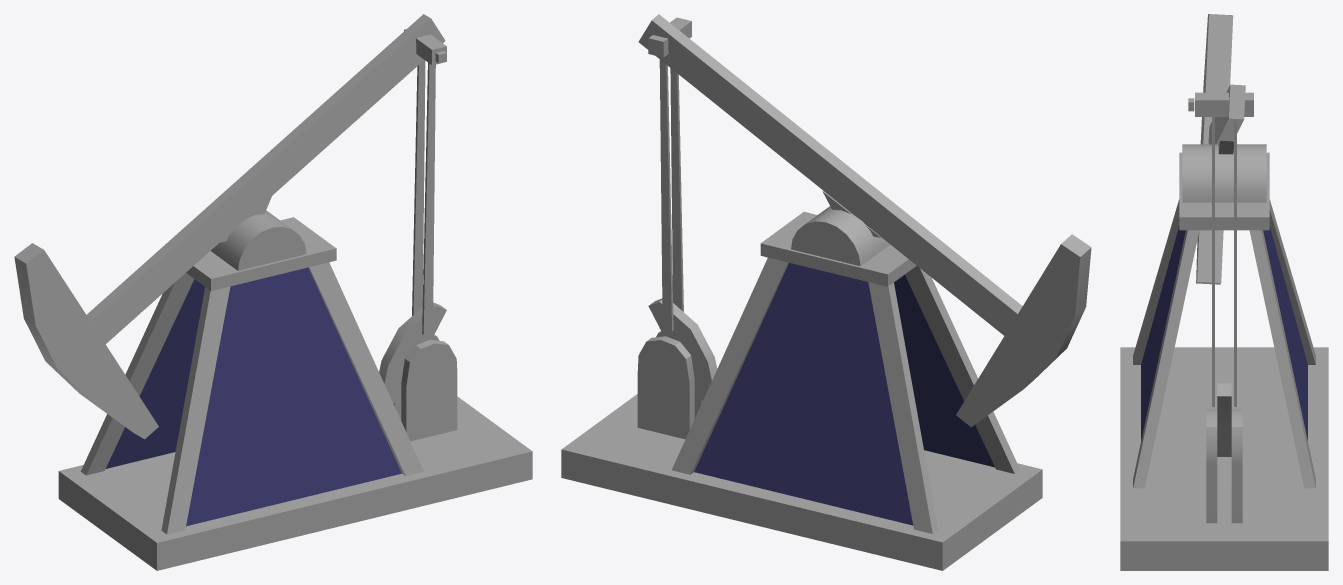
The model's file is OilPump.fbx.
3 renders of one model, left to right at view 1: azimuth 30°, elevation 25°; view 2: azimuth 150°, elevation 25°; view 3: azimuth 270°, elevation 25°, orthographic. The views are drawn at different scales.
Visible parts, largest first — view 1: oils3, oils1, oils2, oils4; view 2: oils3, oils1, oils2, oils4; view 3: oils3, oils1, oils2, oils4.
Part boxes in pixels (x1,y1,x2,y2): oils3: (58, 210, 532, 570); oils1: (14, 14, 445, 439); oils2: (404, 29, 446, 334); oils4: (379, 302, 446, 403); oils3: (561, 206, 1042, 570); oils1: (638, 14, 1091, 427); oils2: (648, 17, 691, 331); oils4: (648, 298, 717, 401); oils3: (1120, 144, 1328, 570); oils1: (1196, 14, 1245, 284); oils2: (1188, 92, 1253, 406); oils4: (1217, 383, 1231, 456).
Bounding box in the file's own units: 18.78 × 16.77 × 6.88.
